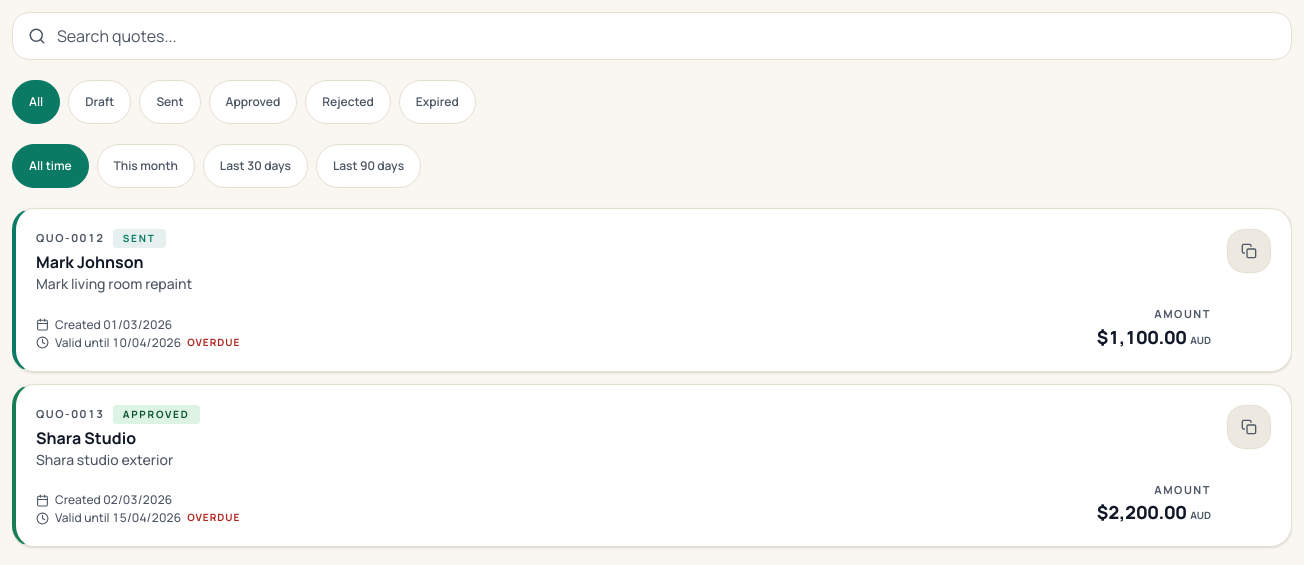
Test: QuoteTable › filters quotes by search query and status
Type "Mark" into the search field with placeholder "Search quotes...". click: (652, 36)
box: [12,12,1292,60]
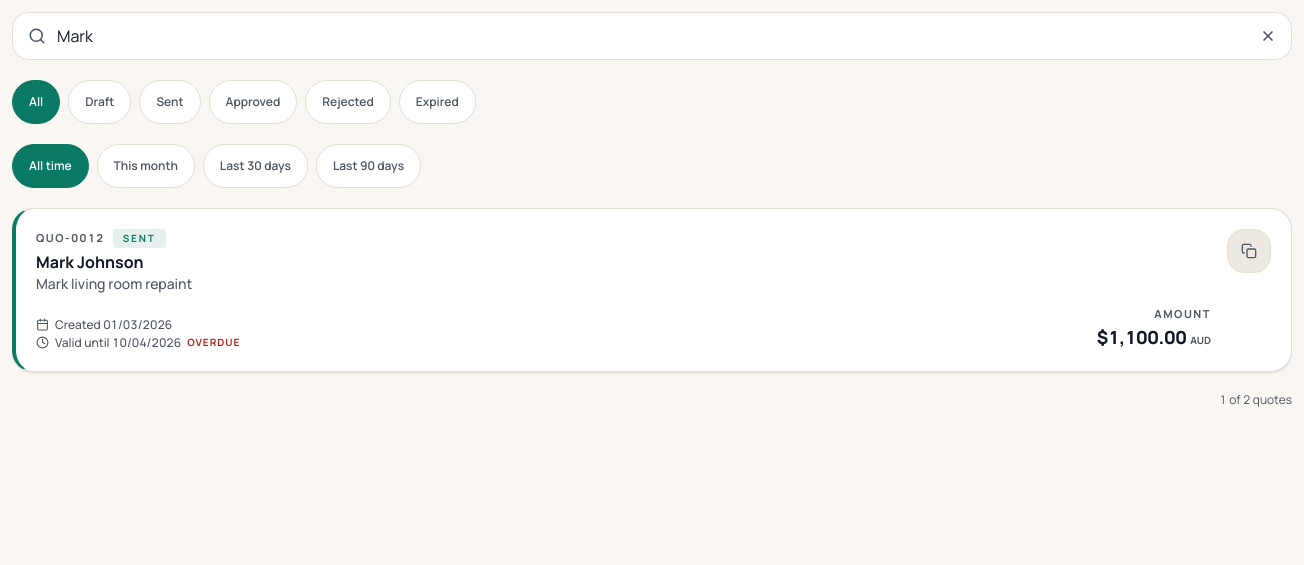
Expected: the heading "Mark Johnson" is shown, [36,251,144,273]
Expected: the link "Shara Studio" is gone
Click the button "Approved". click: (253, 102)
box: [208,80,297,124]
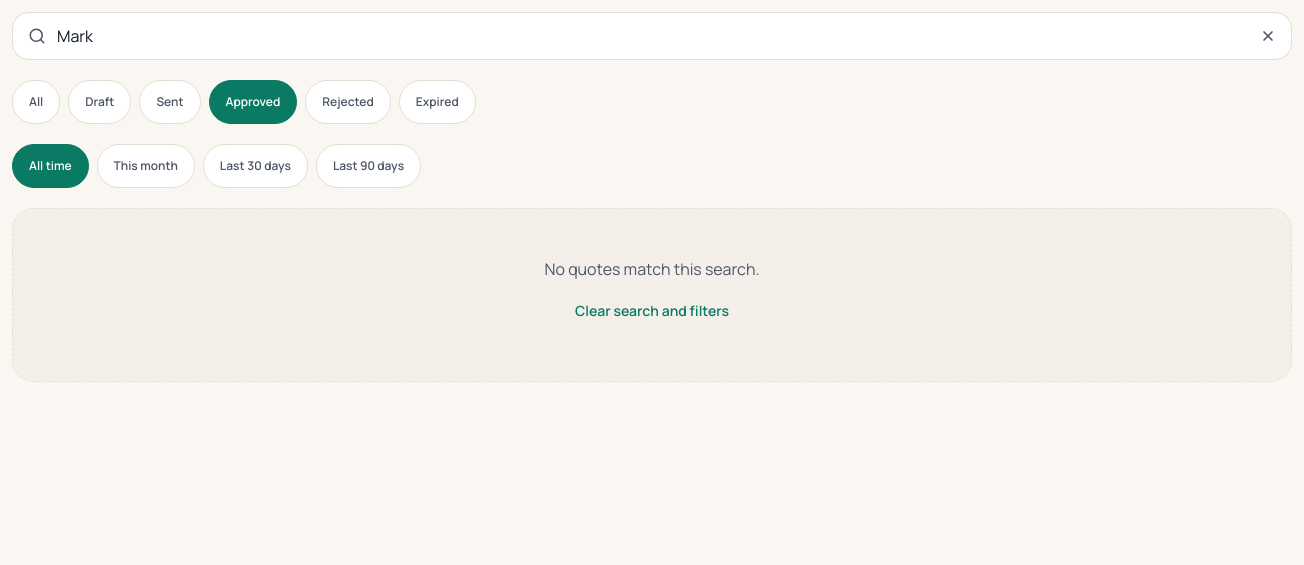
Expected: the text "No quotes match this search." is shown, [544,258,760,280]
Clear the search field with placeholder "Search quotes...". click: (652, 36)
box: [12,12,1292,60]
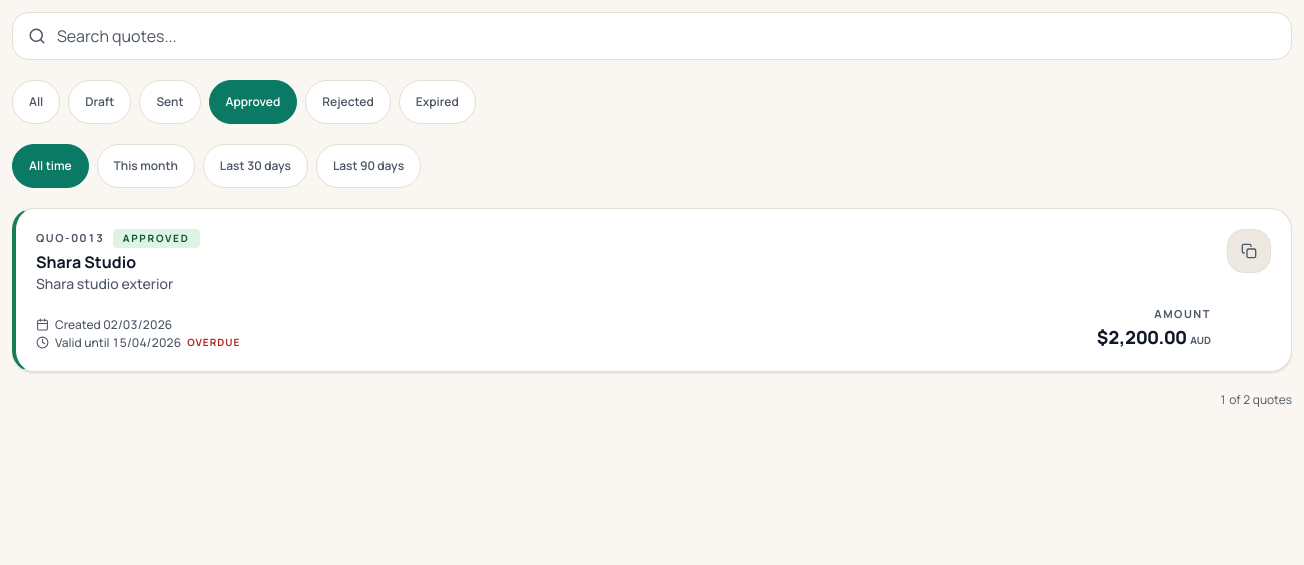
Expected: the link "Mark Johnson" is not shown
Expected: the heading "Shara Studio" is shown, [36,251,136,273]
